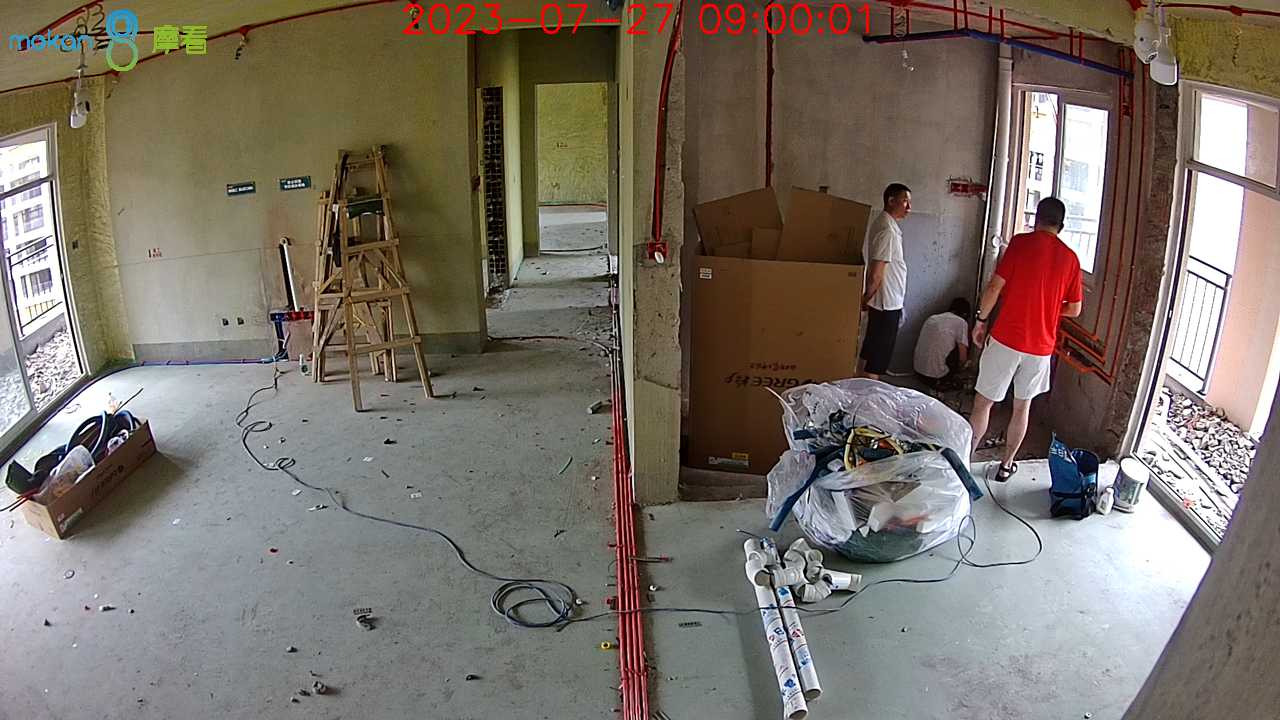people: (967, 193, 1086, 491), (860, 179, 908, 382), (914, 294, 972, 390)
window: (1160, 94, 1277, 517), (1, 144, 80, 429), (1012, 84, 1107, 298)
